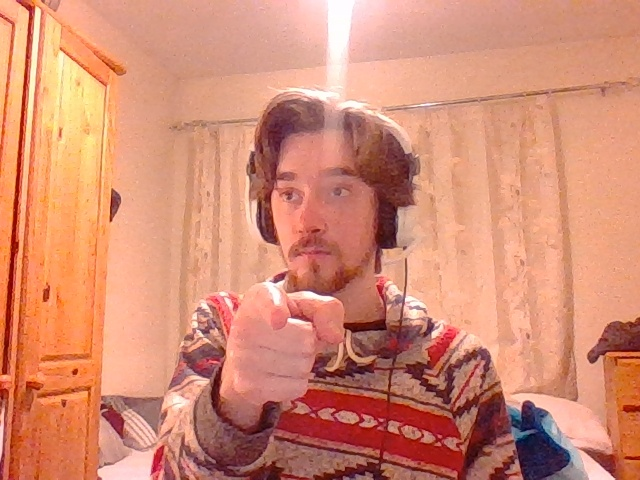you: (221, 282, 345, 403)
